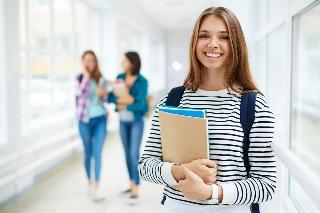person - v3 P: (139, 8, 276, 212), (109, 52, 148, 203), (76, 51, 108, 200)
